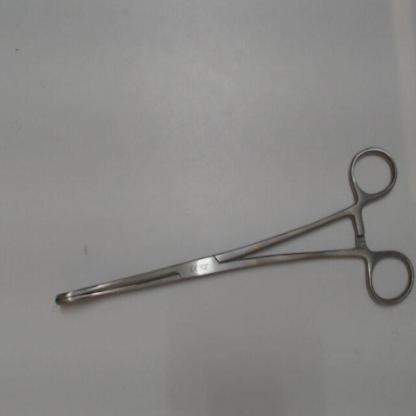Sponge Forceps: (45, 133, 413, 320)
